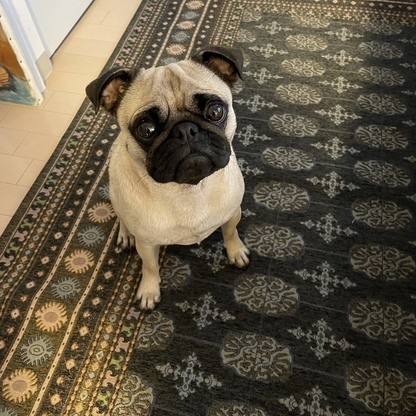Pug: (80, 44, 257, 315)
